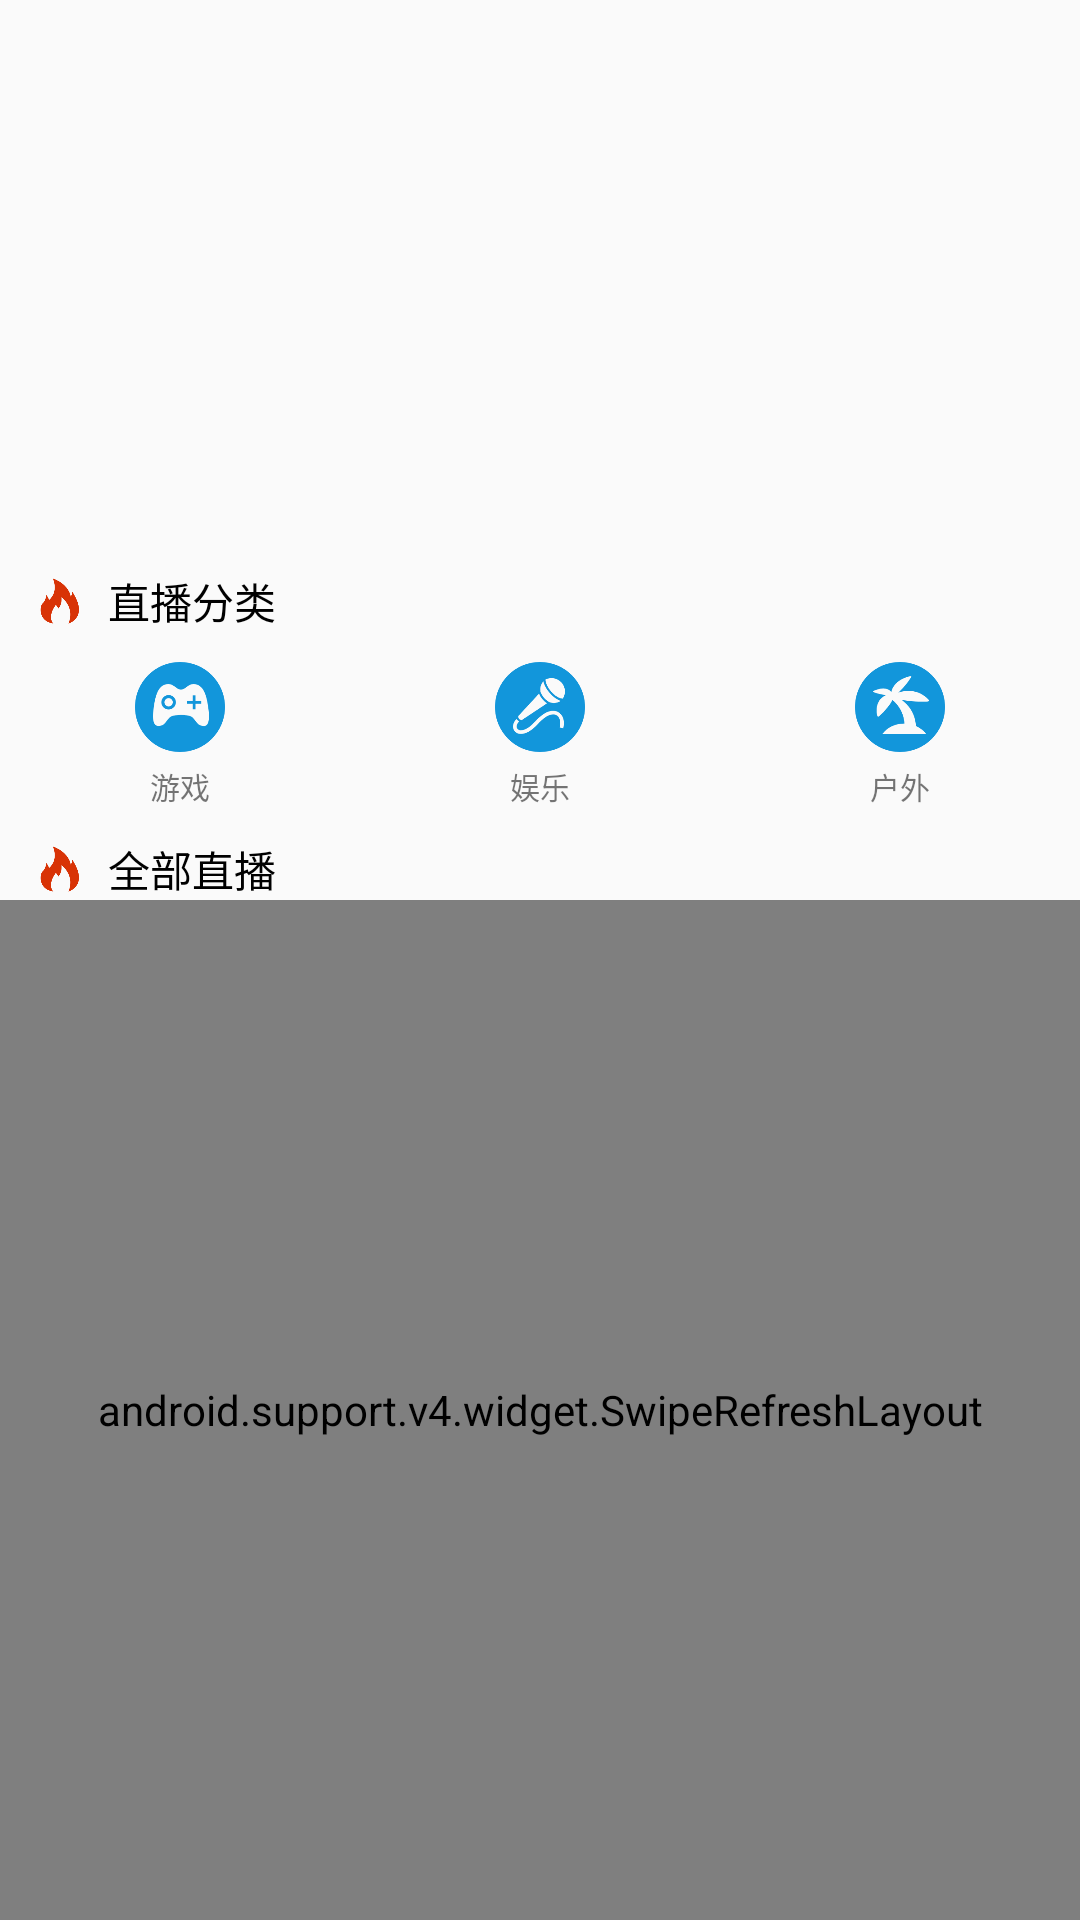

Named icons in this screenshot (1080*1920) and their bounding boxes, (x1, y1, x2, y2):
hotimage: (40, 578, 79, 624), (40, 846, 79, 892)
